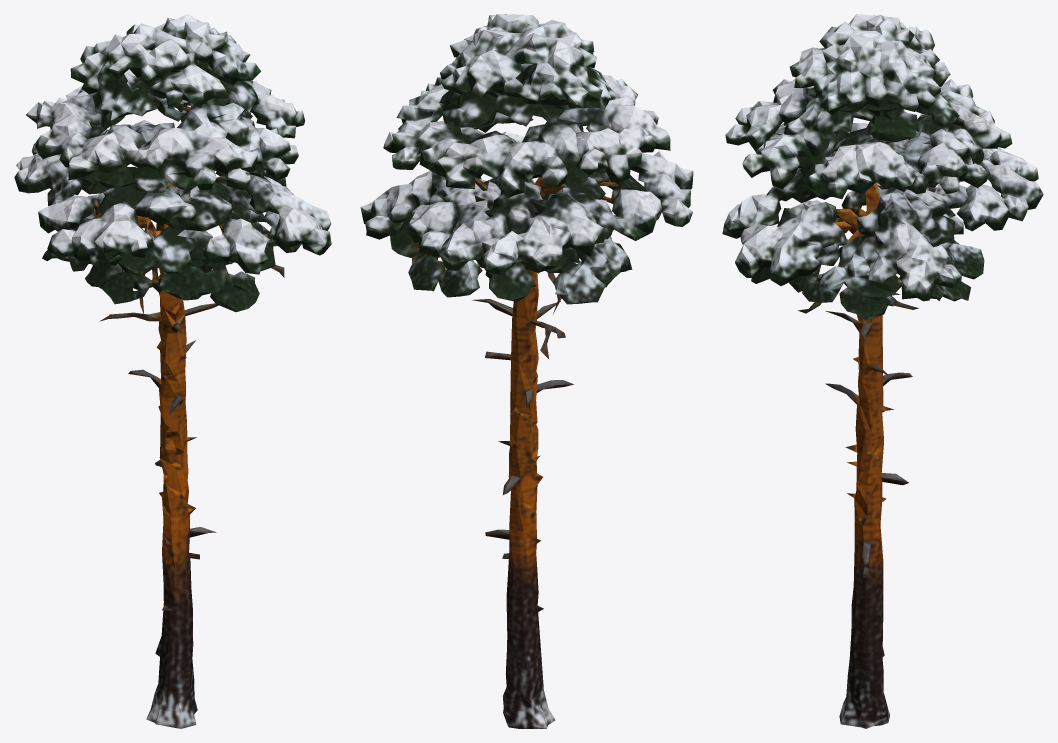
The model's file is pine_snow.glb.
3 views of the same model, side by side, from view 1: azimuth 30°, elevation 25°; view 2: azimuth 150°, elevation 25°; view 3: azimuth 270°, elevation 25° (orthographic).
Parts seen in each view (by area): view 1: geometry_0; view 2: geometry_0; view 3: geometry_0.
Part boxes in pixels (x1,y1,x2,y2): geometry_0: (14, 14, 331, 728); geometry_0: (360, 14, 693, 728); geometry_0: (722, 14, 1043, 728).
Bounding box in the file's own units: 0.4166 × 1 × 0.4222.
1 material, 1 textured.
